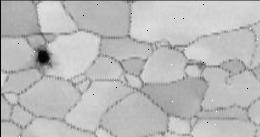good_void: (32, 45, 53, 71)
